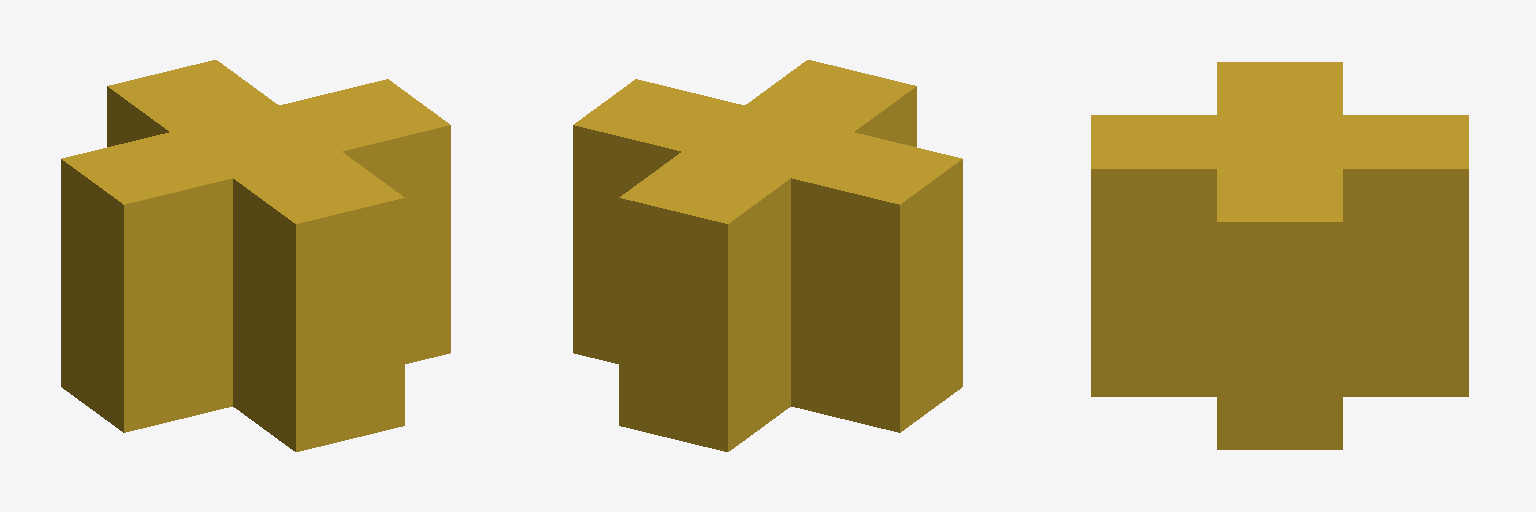
The picture shows the model from 3 angles: view 1: azimuth 30°, elevation 25°; view 2: azimuth 150°, elevation 25°; view 3: azimuth 270°, elevation 25°; orthographic projection.
Parts seen in each view (by area): view 1: object 1; view 2: object 1; view 3: object 1.
Part boxes in pixels (x1,y1,x2,y2): object 1: (61,60,450,451); object 1: (573,60,962,451); object 1: (1091,62,1468,449).
Size of the model in its own units: 0.3 by 0.2 by 0.3.
1 materials, 1 textured.